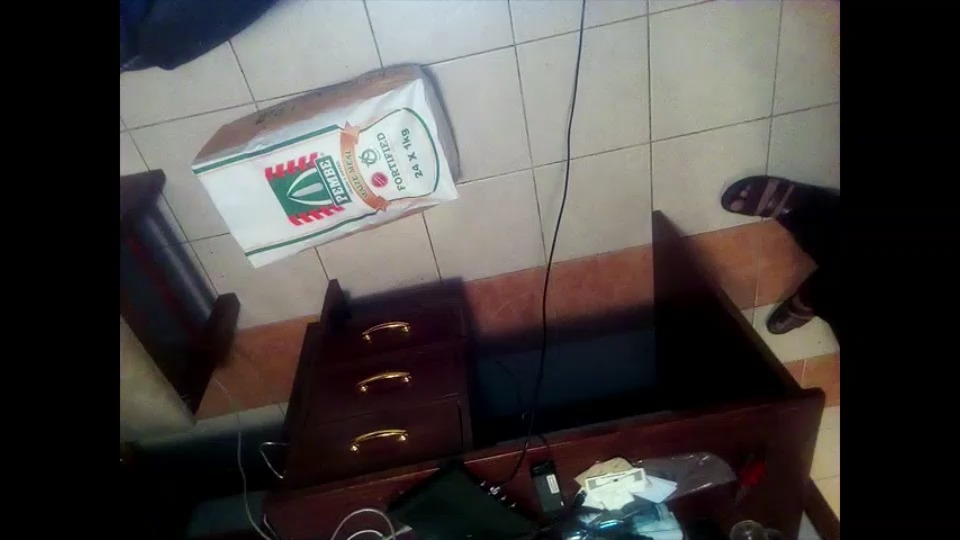maize_flour_green_label: (198, 69, 458, 260)
